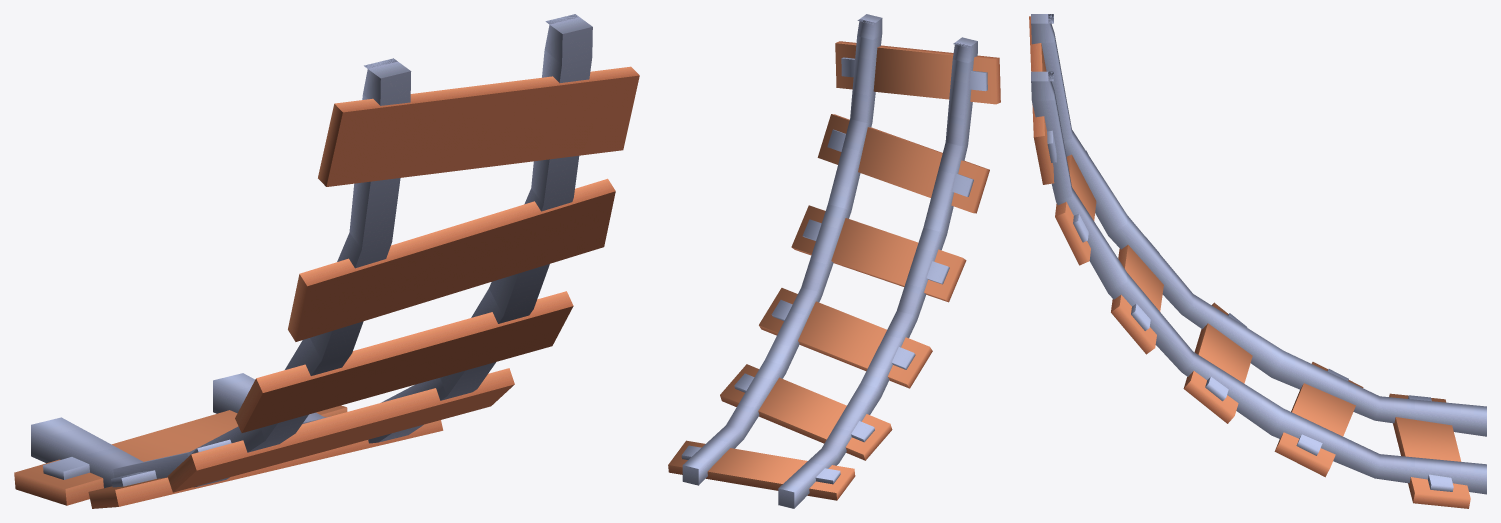
File: railroad-damaged-straight-bend.glb
3 renders of one model, left to right at view 1: azimuth 30°, elevation 25°; view 2: azimuth 150°, elevation 25°; view 3: azimuth 270°, elevation 25°, orthographic. The views are drawn at different scales.
Visible parts, largest first — view 1: railroad-damaged-straight-bend; view 2: railroad-damaged-straight-bend; view 3: railroad-damaged-straight-bend.
Part boxes in pixels (x1,y1,x2,y2): railroad-damaged-straight-bend: [14, 14, 639, 508]; railroad-damaged-straight-bend: [668, 14, 1000, 508]; railroad-damaged-straight-bend: [1029, 14, 1486, 508].
Bounding box in the file's own units: 1.03 × 2.01 × 2.01.
1 material, 1 textured.
